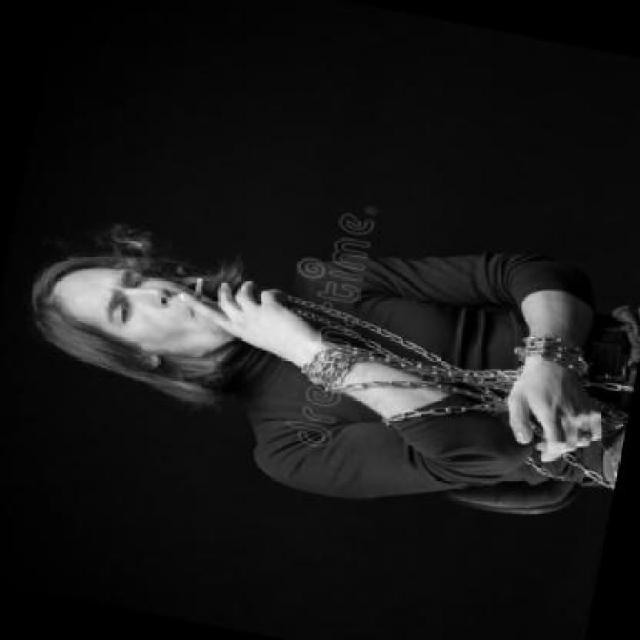cigarette: (190, 273, 204, 302)
